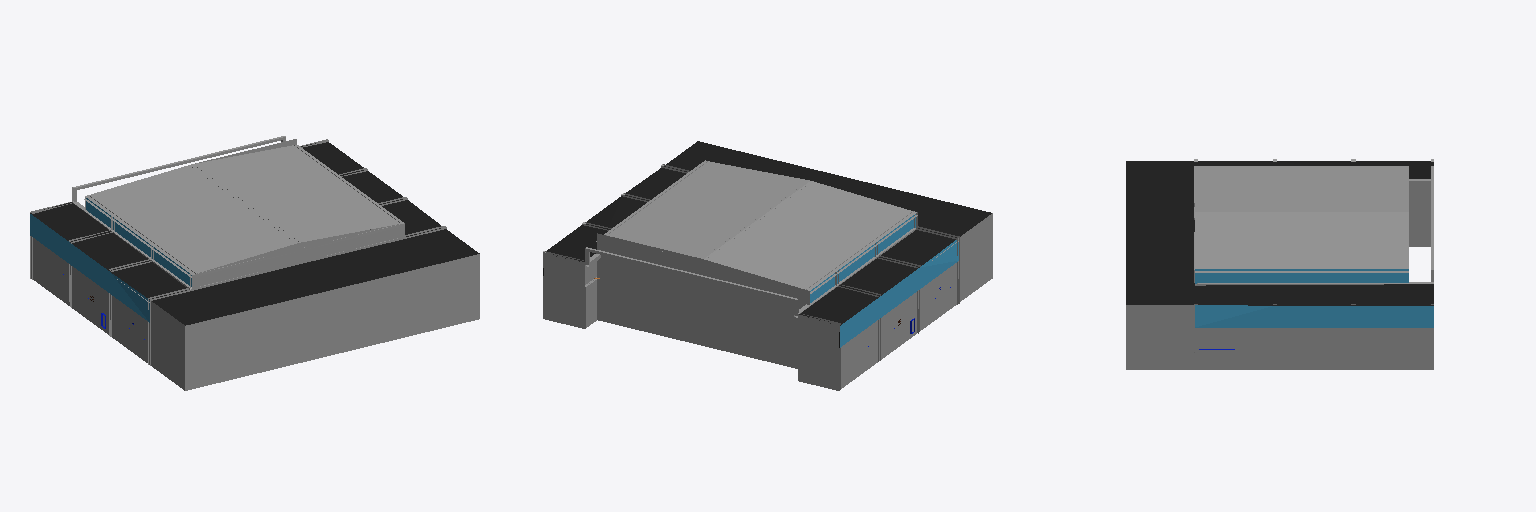
3 renders of one model, left to right at view 1: azimuth 30°, elevation 25°; view 2: azimuth 150°, elevation 25°; view 3: azimuth 270°, elevation 25°, orthographic.
Visible parts, largest first — view 1: 4-_Plaster_peach, 5-_Roof, 3-_Concrete_Celing, 7-_Column_concrete, 6-_Window_2, 8-_Plaster_Blue; view 2: 4-_Plaster_peach, 5-_Roof, 3-_Concrete_Celing, 6-_Window_2, 8-_Plaster_Blue, 7-_Column_concrete; view 3: 5-_Roof, 3-_Concrete_Celing, 4-_Plaster_peach, 6-_Window_2, 8-_Plaster_Blue, 7-_Column_concrete.
Part boxes in pixels (x1,y1,x2,y2): 4-_Plaster_peach: (31,197,479,390); 5-_Roof: (85,145,403,274); 3-_Concrete_Celing: (30,142,479,325); 7-_Column_concrete: (30,136,446,365); 6-_Window_2: (30,198,191,322); 8-_Plaster_Blue: (31,270,149,364); 4-_Plaster_peach: (543,213,992,381); 5-_Roof: (604,161,916,290); 3-_Concrete_Celing: (543,141,991,347); 6-_Window_2: (810,214,958,347); 8-_Plaster_Blue: (544,296,956,390); 7-_Column_concrete: (543,160,959,390); 5-_Roof: (1195,166,1408,268); 3-_Concrete_Celing: (1126,161,1433,305); 4-_Plaster_peach: (1126,185,1433,369); 6-_Window_2: (1195,269,1433,327); 8-_Plaster_Blue: (1195,238,1433,369); 7-_Column_concrete: (1194,159,1433,352).
Size of the model in its own units: 2867 by 812 by 2566.